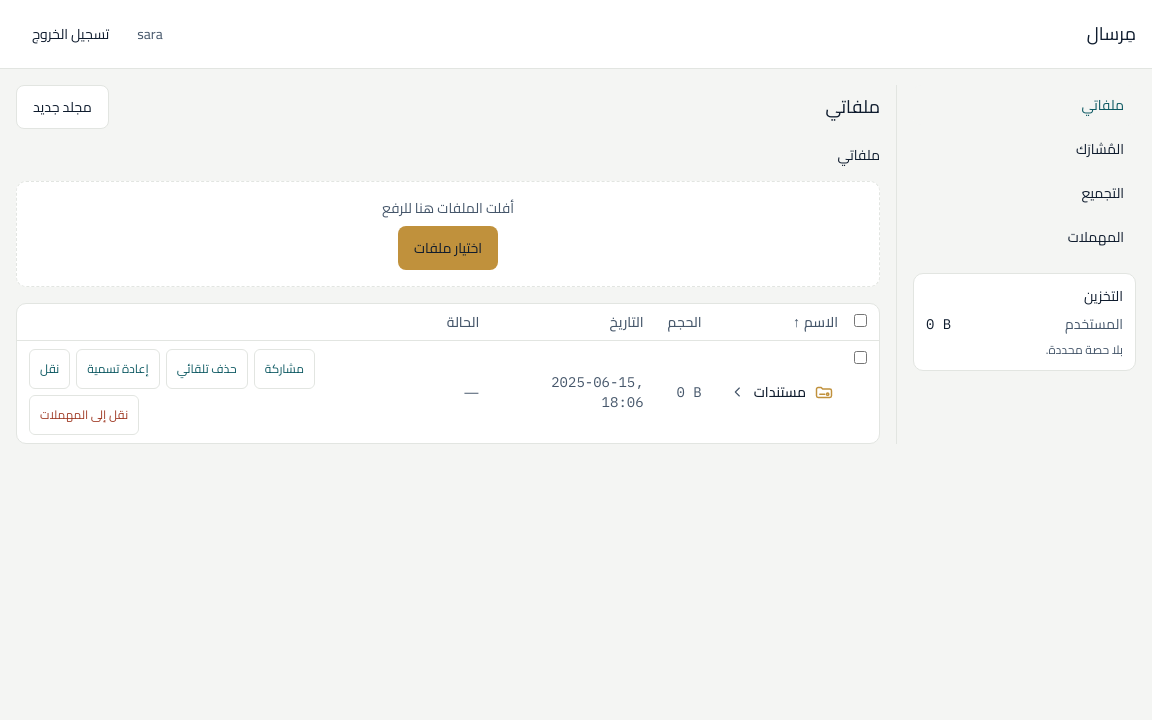
Test: DriveView — dispatch register (§4.6 / §4.3) › a 409 on folder create surfaces a name-conflict message (§3.2 / §7)
The image size is (1152, 720).
Note: Open the "new folder" modal, type a name, submit.
Step 1. Click the button "مجلد جديد" → (62, 107), box left=16, top=85, right=109, bottom=129
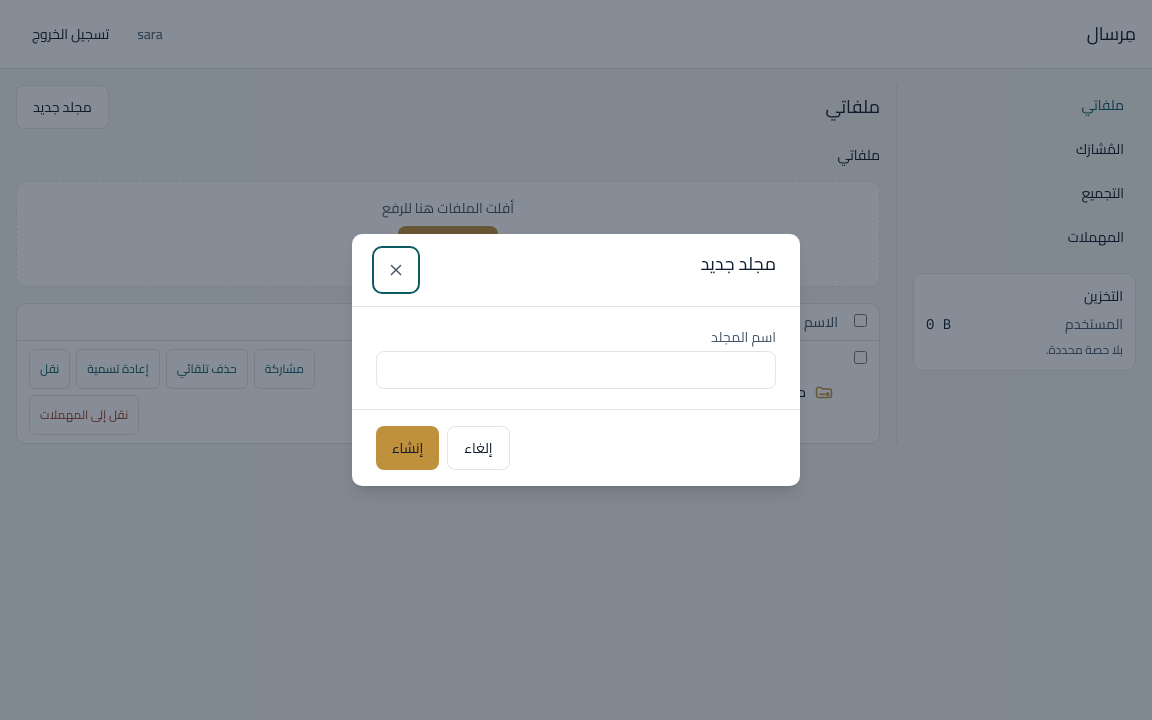
Step 2. Type "مستندات" into the field labelled "اسم المجلد" → (576, 370), box left=376, top=351, right=776, bottom=389
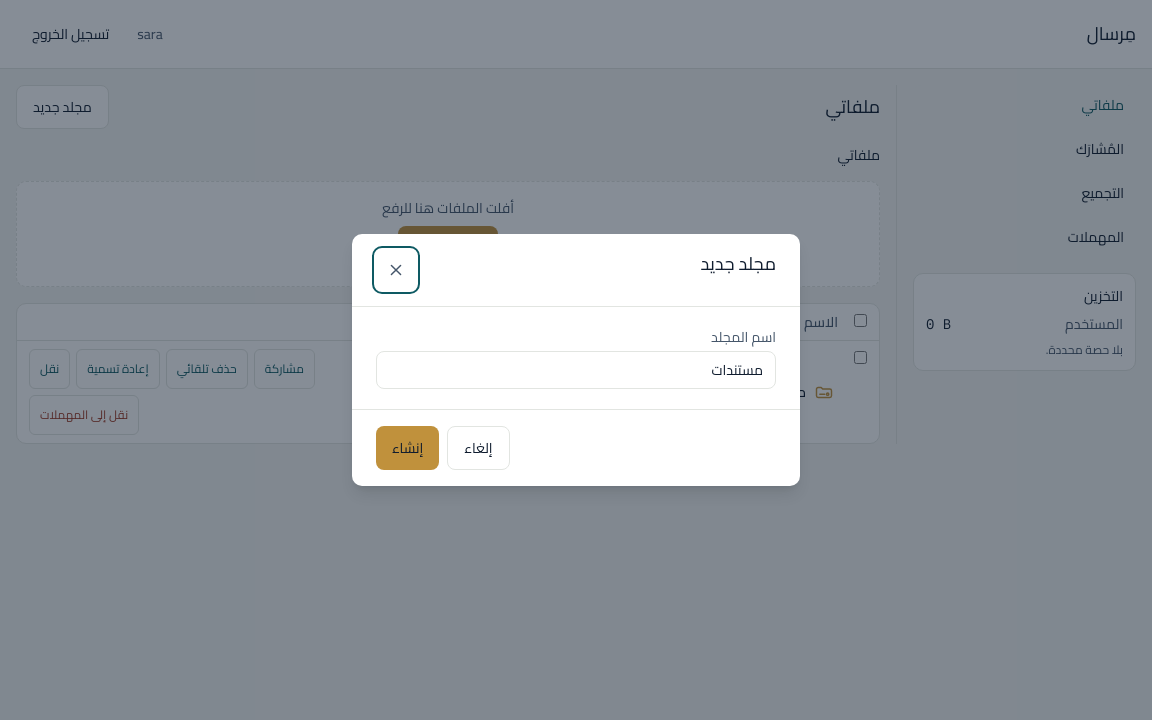
Step 3. Click the button "إنشاء" → (408, 448), box left=376, top=426, right=439, bottom=470
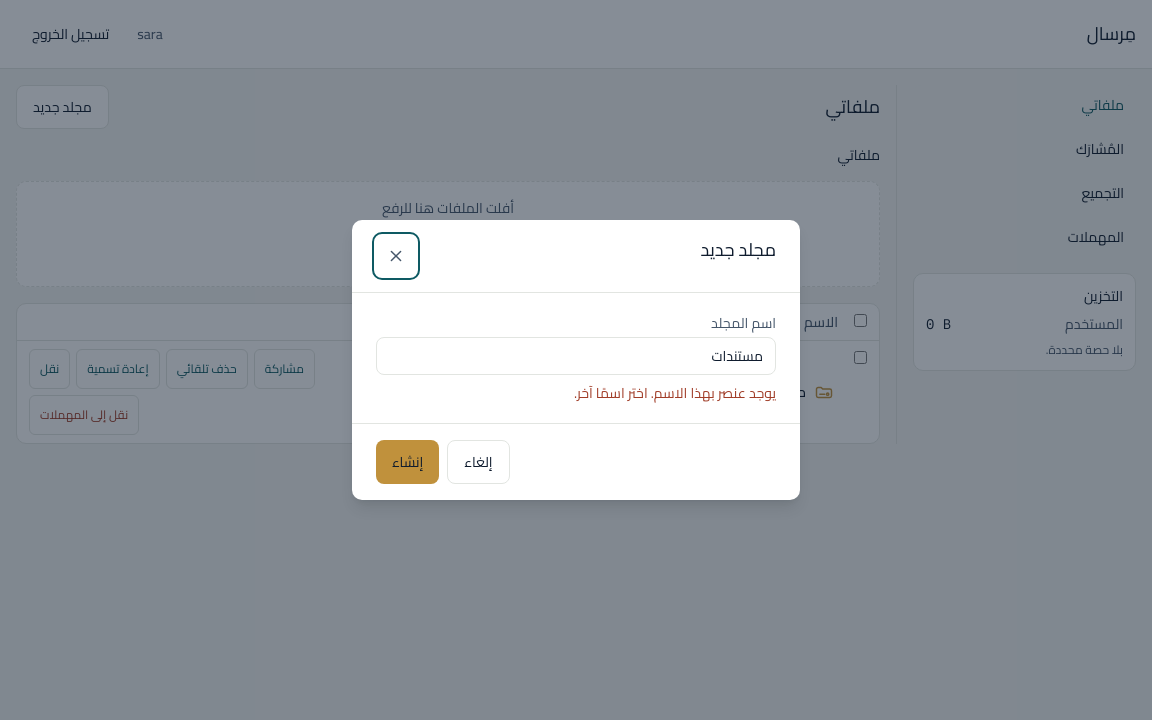
Now the text "يوجد عنصر بهذا الاسم. اختر اسمًا آخر." is shown, box left=574, top=380, right=776, bottom=406
